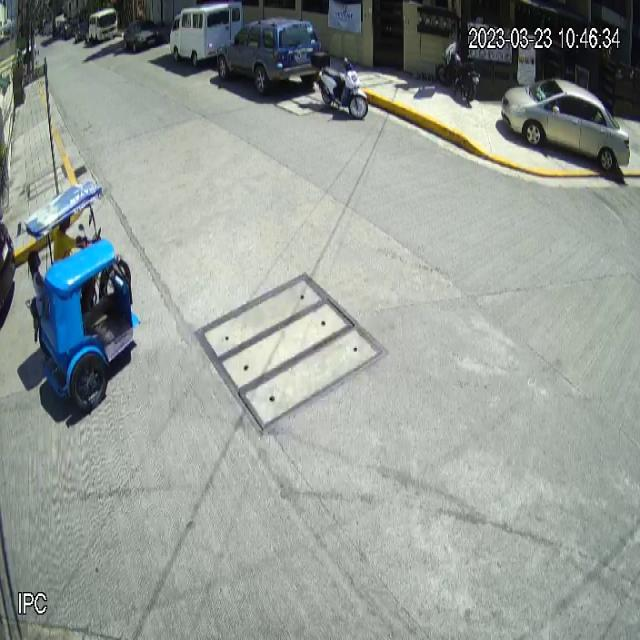Car: (500, 78, 630, 174), (218, 17, 324, 99)
Motorcycle: (312, 48, 369, 120)
Tricycle: (23, 178, 142, 414)
Van: (170, 1, 245, 67)
